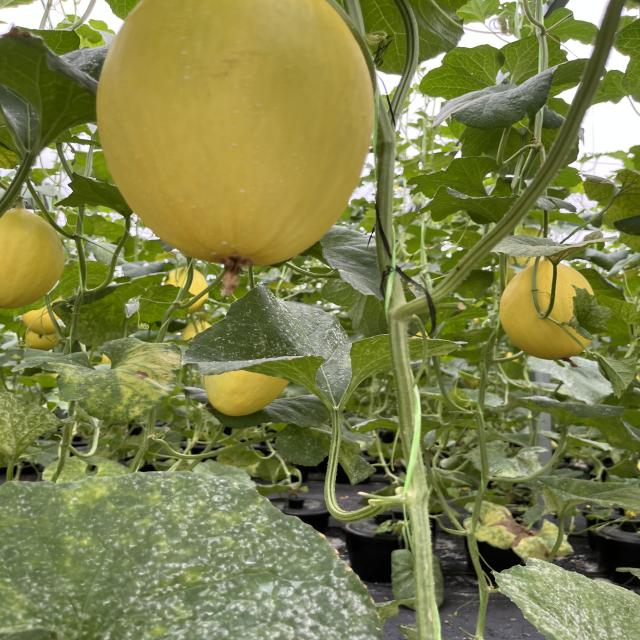CMV: (568, 283, 615, 343)
downy mildew: (14, 336, 189, 424), (488, 223, 618, 267)
healthy: (425, 50, 611, 132), (301, 224, 396, 303), (419, 186, 520, 231), (404, 155, 503, 199)
powdery mildew: (0, 458, 386, 640), (179, 279, 469, 415), (0, 26, 111, 156), (487, 559, 640, 640)
